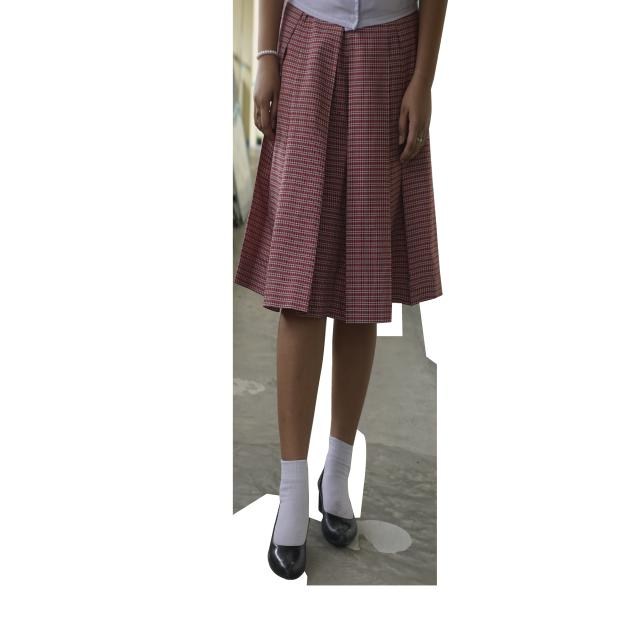shoes: (318, 469, 358, 546), (267, 534, 306, 580)
skirt: (236, 5, 442, 323)
